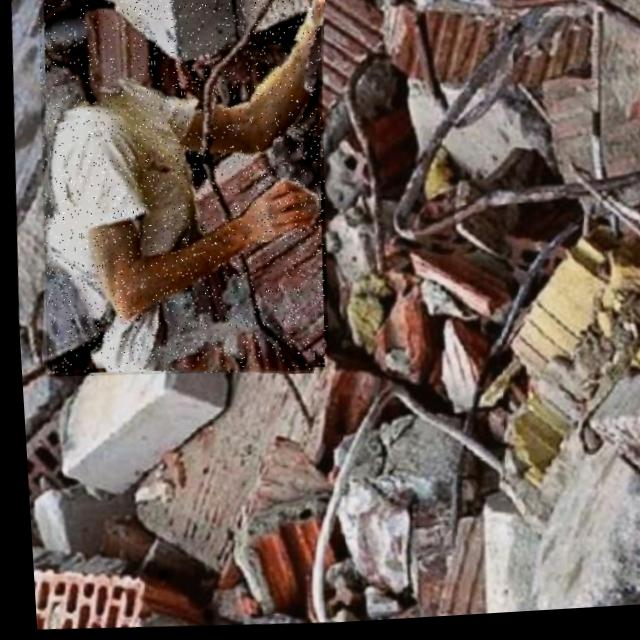Person in Rubble: (25, 0, 337, 386)
